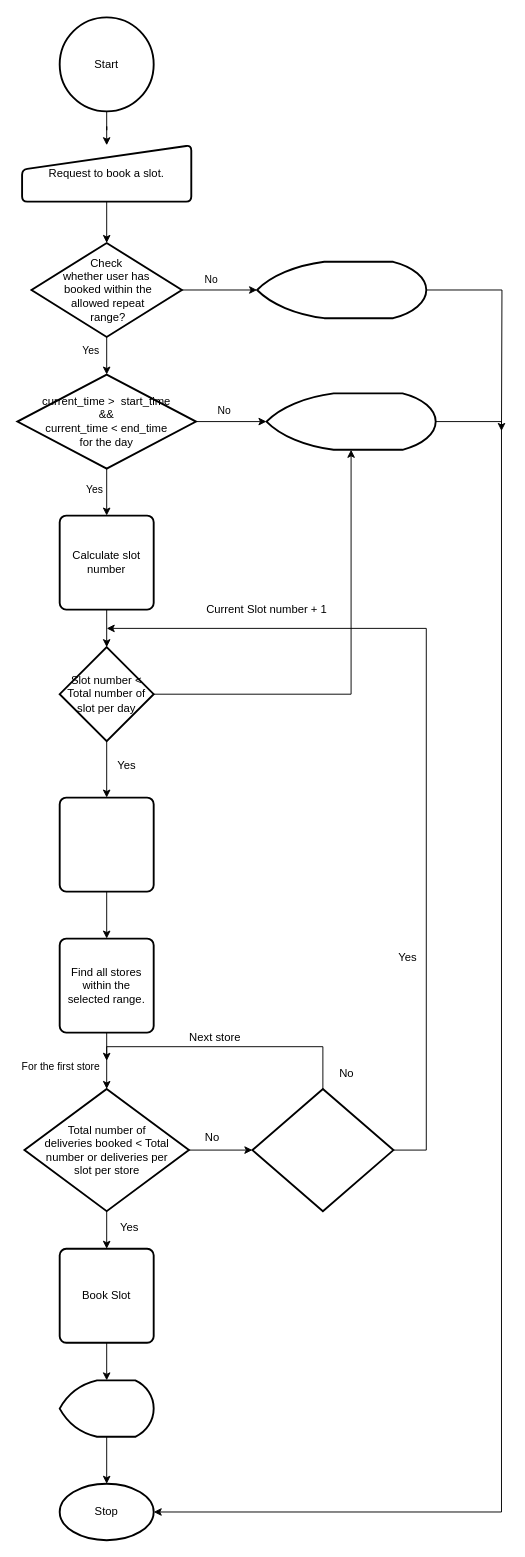
Some shapes in this 525 by 1557 pixel diagram are drawn without their labels. Here are the shapes that lost their labels. From the top down, the centre of each, then its label:
point (341, 289): Notifies the user that they have to request after 'x' days
point (350, 421): Notifies "You have to book within the delivery time"
point (106, 844): Calculate slot duration
point (322, 1150): Store ends
point (106, 1408): Slot has been booked for slot time
